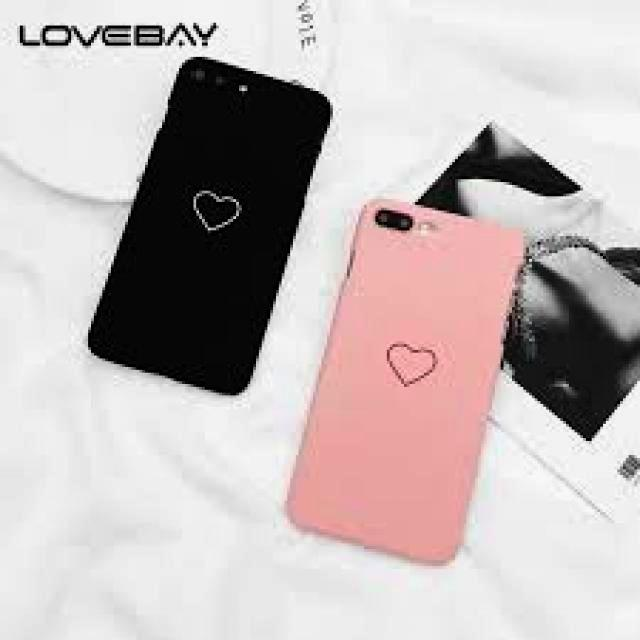lens: (369, 209, 421, 232), (186, 68, 242, 86)
phone: (281, 198, 529, 568), (89, 56, 334, 397)
